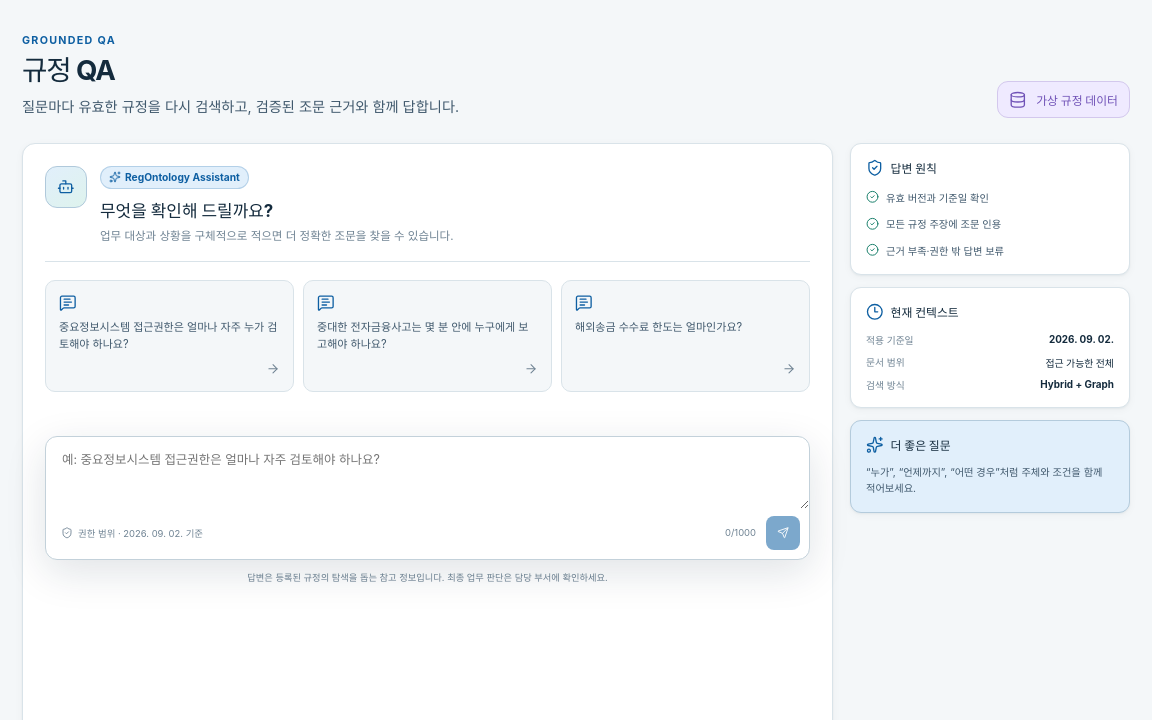
it: QaPage — FR-008/009/010 › renders a cited answer with a stable source link
The image size is (1152, 720).
Type "중요정보시스템 접근권한은 얼마나 자주 검토해야 하나요?" into the text box named "규정 질문" at (428, 472), box [46,436,809,508]
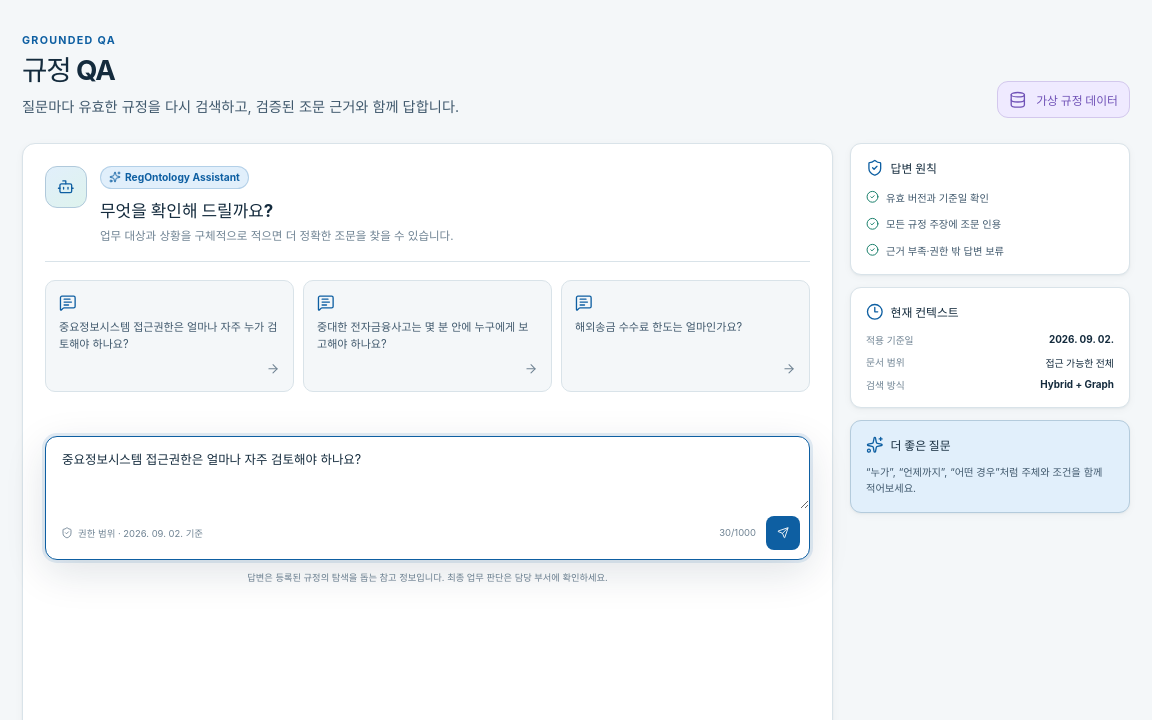
Click the button named "질문 전송" at (783, 532), box [766,516,800,550]
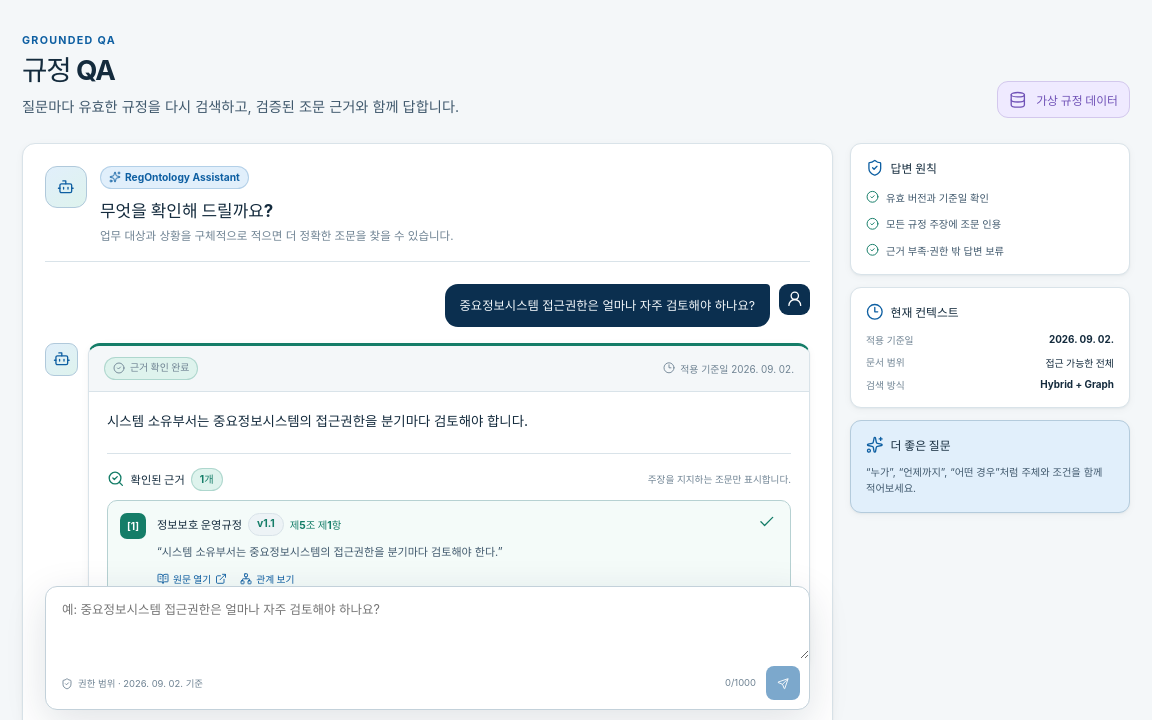
Expected: the text "근거 확인 완료" is shown, [104,357,198,380]
Expected: the text "시스템 소유부서는 중요정보시스템의 접근권한을 분기마다 검토해야 합니다." is shown, [107,413,528,429]
Expected: the text "제5조 제1항" is shown, [290,517,341,532]
